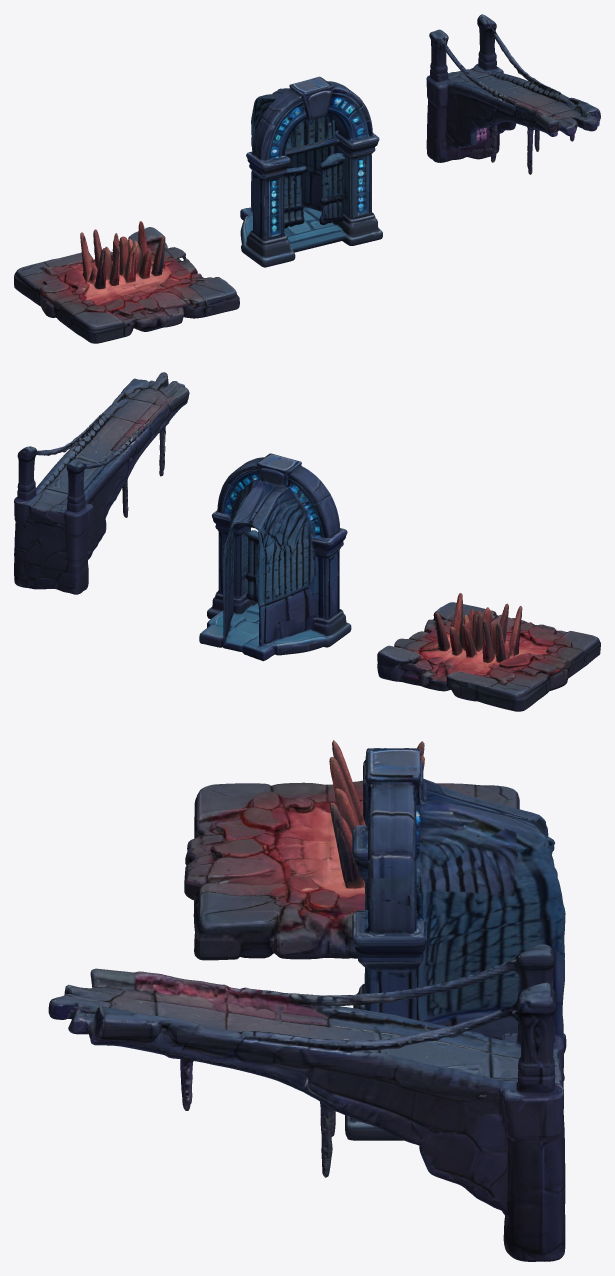
Rendered from arcane-gate.glb.
The picture shows the model from 3 angles, top to bottom: view 1: azimuth 30°, elevation 25°; view 2: azimuth 150°, elevation 25°; view 3: azimuth 270°, elevation 25°; orthographic projection. The views are drawn at different scales.
Parts seen in each view (by area): view 1: tripo_node_c652c4ff-652c-4b58-b1e3-654ccd7bf383; view 2: tripo_node_c652c4ff-652c-4b58-b1e3-654ccd7bf383; view 3: tripo_node_c652c4ff-652c-4b58-b1e3-654ccd7bf383.
Boxes of the visible parts, left/top/right/bottom form: tripo_node_c652c4ff-652c-4b58-b1e3-654ccd7bf383: left=14, top=14, right=600, bottom=343; tripo_node_c652c4ff-652c-4b58-b1e3-654ccd7bf383: left=14, top=372, right=600, bottom=711; tripo_node_c652c4ff-652c-4b58-b1e3-654ccd7bf383: left=48, top=740, right=566, bottom=1261.
Bounding box in the file's own units: 1 × 0.3105 × 0.4529.
1 material, 1 textured.
